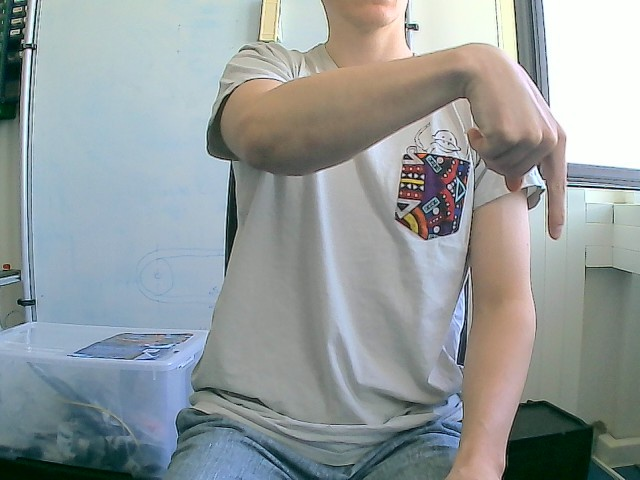down: (463, 43, 569, 241)
